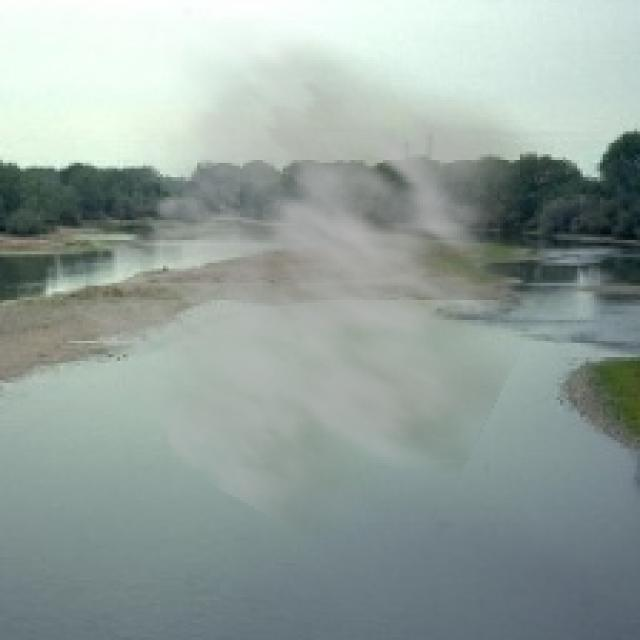smoke: (69, 17, 600, 546)
